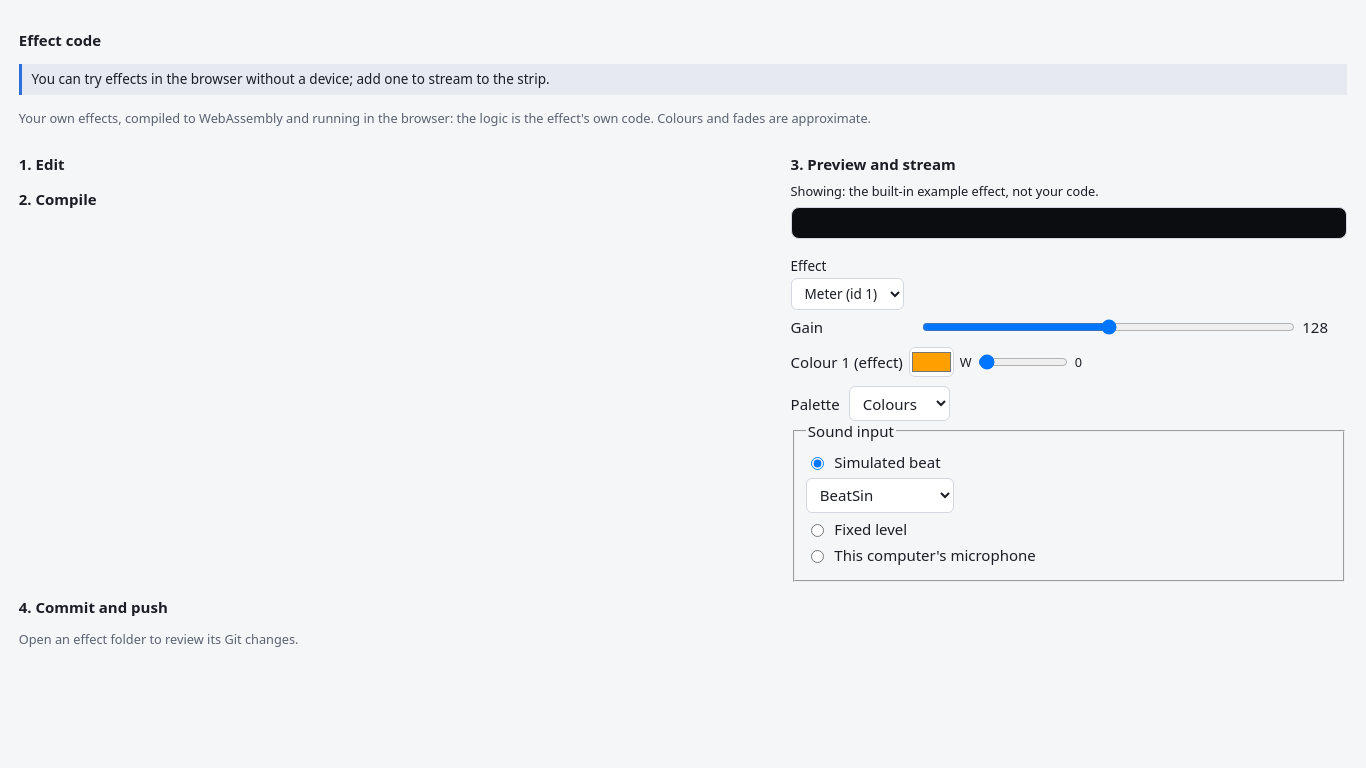
Test: microphone is opt-in, feeds only the preview, and its tracks stop on exit
Click the radio button labelled "This computer's microphone" at (817,556), box [811,550,824,562]
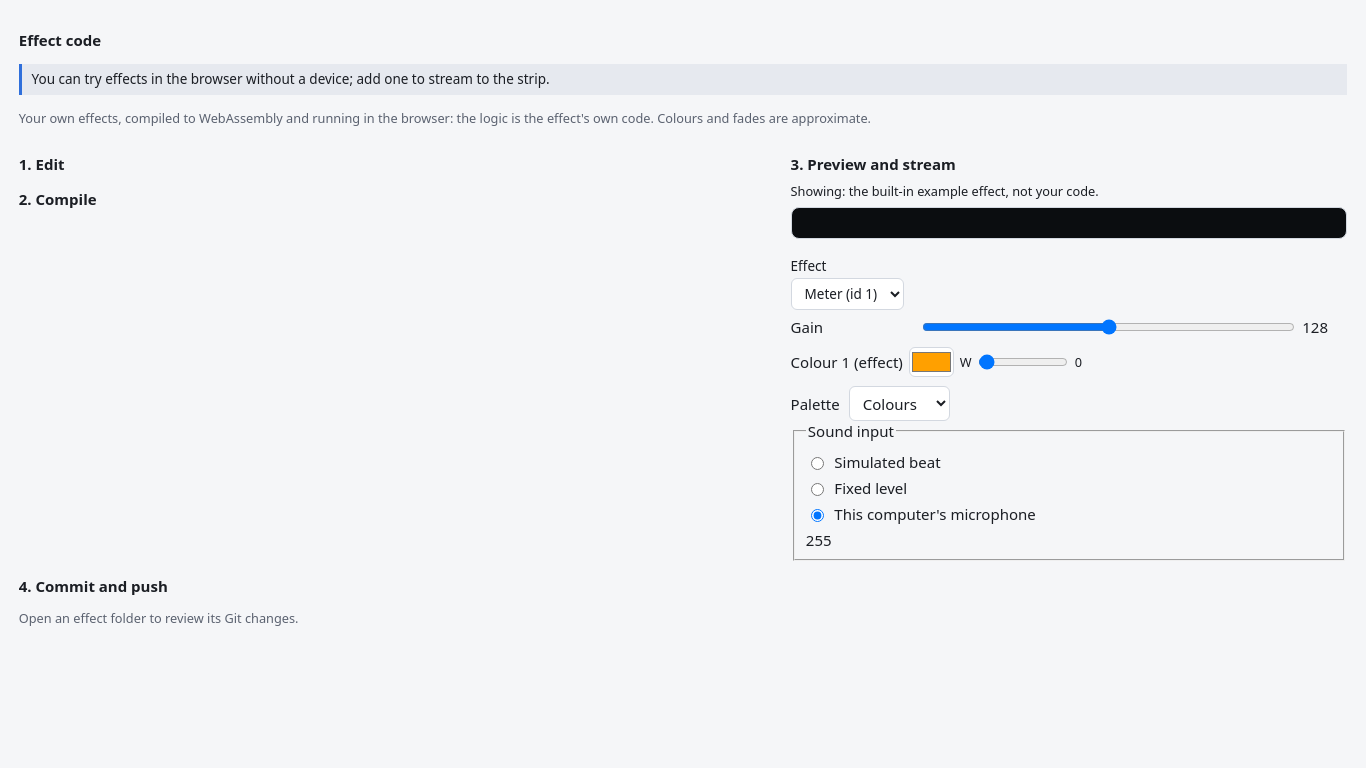
Now the text named "Microphone sound level" reads "255", box [806,530,832,550]
